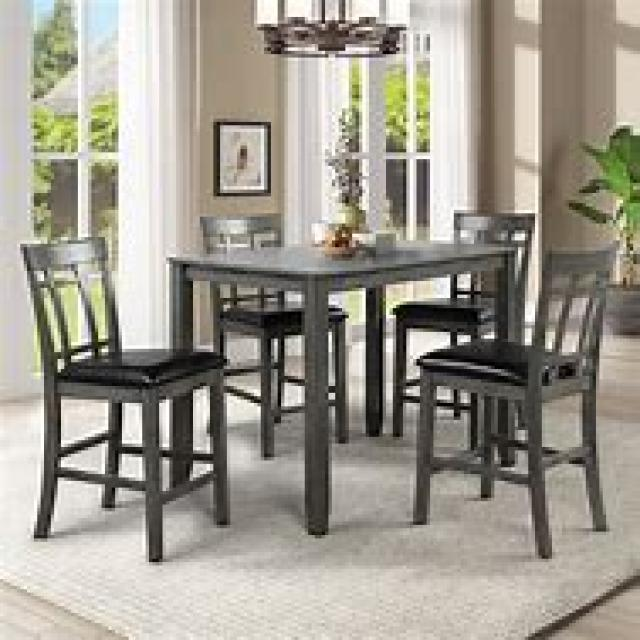chair: (17, 234, 230, 562), (410, 237, 620, 555), (196, 213, 349, 457), (389, 210, 535, 457)
table: (166, 234, 521, 535)
